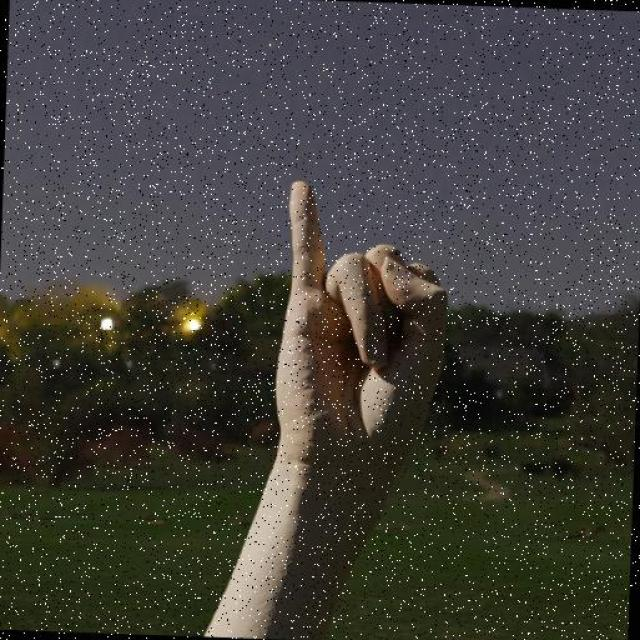I: (200, 152, 517, 558)
